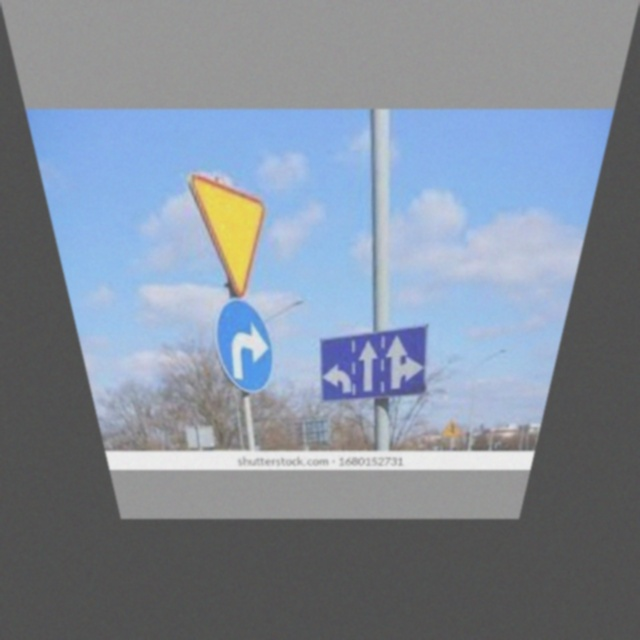Compulsory_Ahead_or_Turn_Right: (377, 319, 431, 401)
